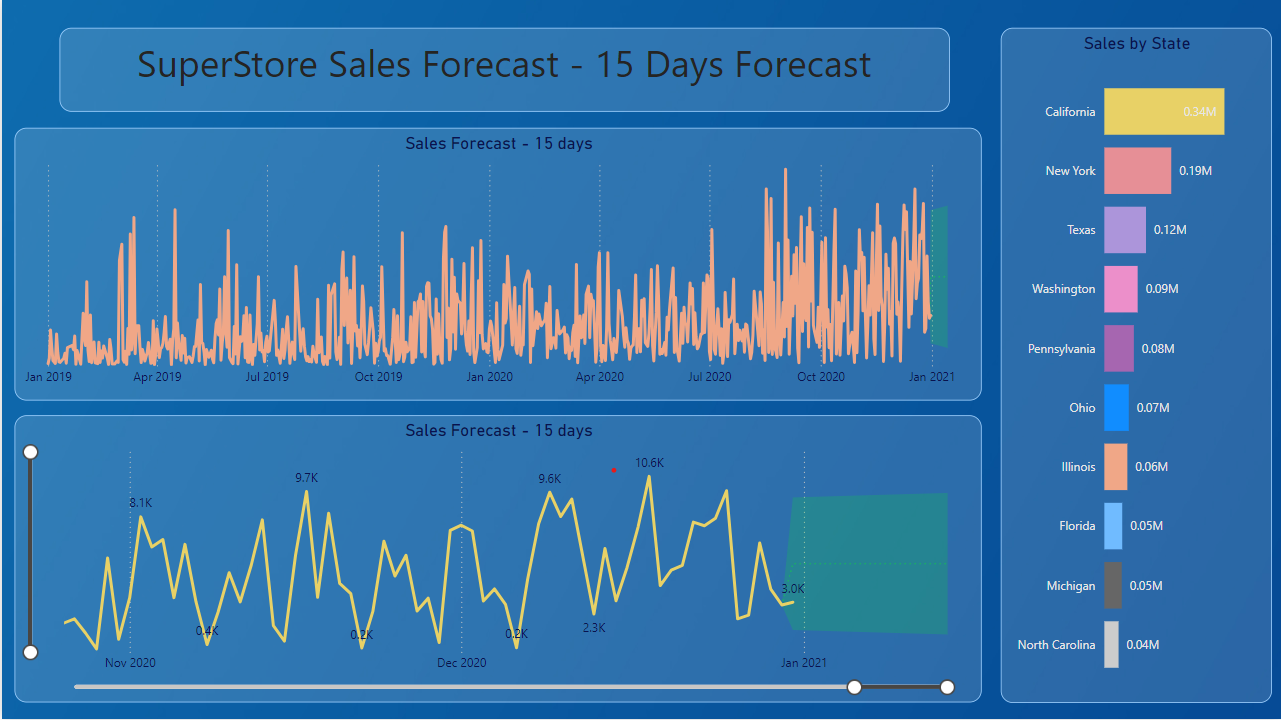

This screenshot's page, from the dashboard's own definition file:
{"tool":"powerbi","page":{"name":"Page 2","canvas":[1280,720],"ordinal":1},"visuals":[{"type":"lineChart","title":"Sales Forecast - 15 days","fields":{"Y":["Sum(SuperStore_Sales_Dataset.Sales)"],"Category":["SuperStore_Sales_Dataset.Order Date"]},"box":[12.5,128.8,967.5,272.5],"z":0},{"type":"lineChart","title":"Sales Forecast - 15 days","fields":{"Y":["Sum(SuperStore_Sales_Dataset.Sales)"],"Category":["SuperStore_Sales_Dataset.Order Date"]},"box":[12.5,416.2,967.5,287.5],"z":1000},{"type":"barChart","title":"Sales by State","fields":{"Y":["Sum(SuperStore_Sales_Dataset.Sales)"],"Category":["SuperStore_Sales_Dataset.State"]},"box":[998.8,28.8,271.2,675],"z":2000},{"type":"textbox","box":[57.5,28.8,890,83.8],"z":3000}]}

Visuals, with their boxes in screenshot pixels (x1, y1, x2, y2), scaled from the page's 1280x720 canvas onto the 1281x720 screenshot:
"Sales Forecast - 15 days" lineChart: BBox(13, 129, 981, 401)
"Sales Forecast - 15 days" lineChart: BBox(13, 416, 981, 704)
"Sales by State" barChart: BBox(1000, 29, 1271, 704)
textbox: BBox(58, 29, 948, 113)
